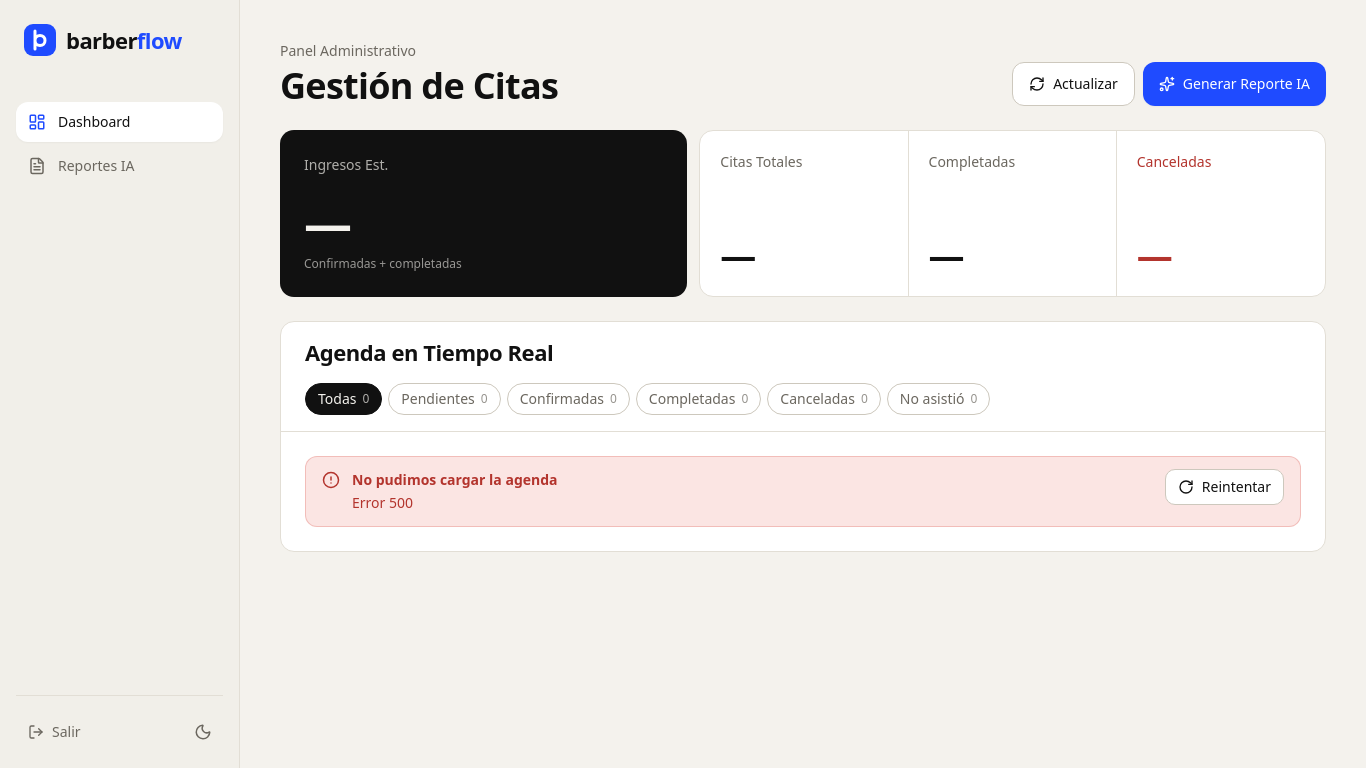
Test case: admin › muestra error y permite reintentar si falla la carga
Expected: the text "Error 500" is shown, [352,493,413,512]
Click the button "Reintentar" at (1224, 487), box [1165,469,1284,505]
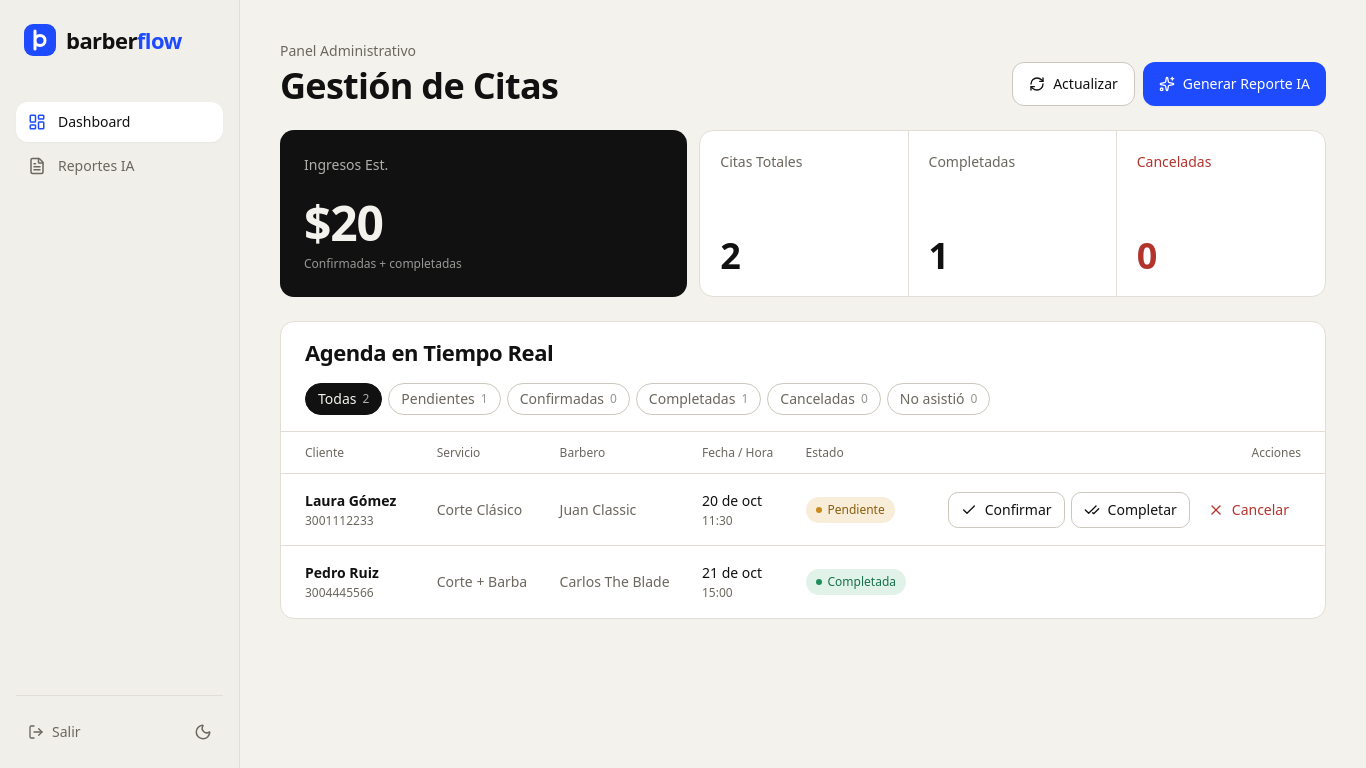
Expected: the text "Laura Gómez" is shown, [305,490,396,512]
